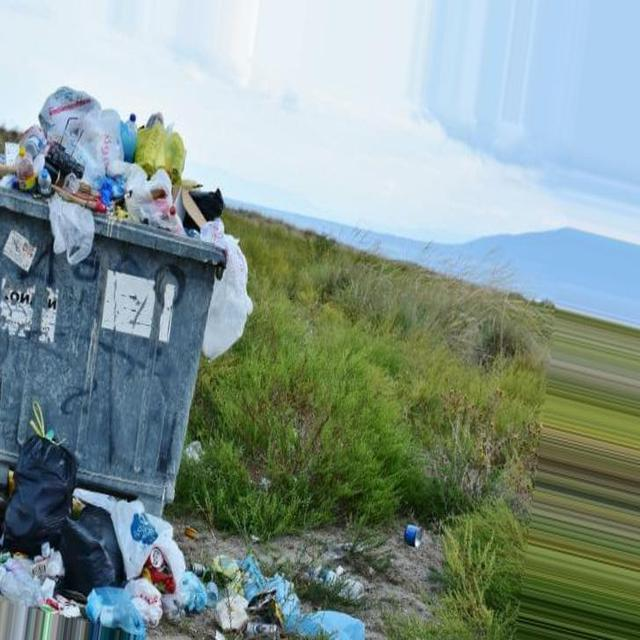garbage: (3, 78, 255, 372), (0, 392, 183, 640), (185, 550, 304, 640), (306, 554, 372, 606), (304, 608, 376, 640), (394, 516, 436, 558)
